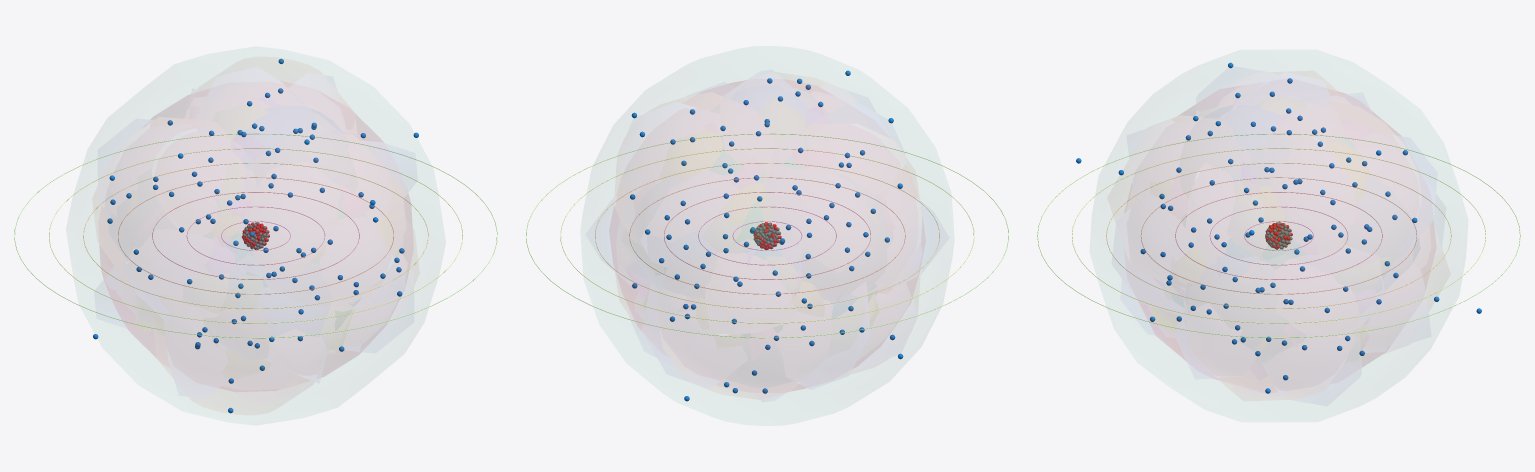
3 renders of one model, left to right at view 1: azimuth 30°, elevation 25°; view 2: azimuth 150°, elevation 25°; view 3: azimuth 270°, elevation 25°, orthographic.
Visible parts, largest first — view 1: Orbital_5s_0, Nivel_n7, Nivel_n6, Nivel_n5, Nivel_n4, Nivel_n3; view 2: Orbital_5s_0, Nivel_n7, Nivel_n6, Nivel_n5, Nivel_n4, Nivel_n3; view 3: Orbital_5s_0, Nivel_n7, Nivel_n6, Nivel_n5, Nivel_n4, Nivel_n3.
Part boxes in pixels (x1,y1,x2,y2): Orbital_5s_0: [100, 82, 412, 391]; Nivel_n7: [14, 133, 497, 338]; Nivel_n6: [49, 148, 462, 323]; Nivel_n5: [83, 163, 428, 308]; Nivel_n4: [118, 177, 393, 294]; Nivel_n3: [152, 192, 359, 279]; Orbital_5s_0: [609, 80, 925, 390]; Nivel_n7: [526, 133, 1008, 338]; Nivel_n6: [560, 148, 974, 323]; Nivel_n5: [595, 163, 939, 308]; Nivel_n4: [629, 177, 905, 294]; Nivel_n3: [664, 192, 870, 279]; Orbital_5s_0: [1125, 86, 1435, 379]; Nivel_n7: [1037, 133, 1520, 338]; Nivel_n6: [1072, 148, 1485, 323]; Nivel_n5: [1106, 163, 1451, 308]; Nivel_n4: [1141, 177, 1416, 294]; Nivel_n3: [1175, 192, 1382, 279].
Bounding box in the file's own units: 2.1 × 1.92 × 2.1.
